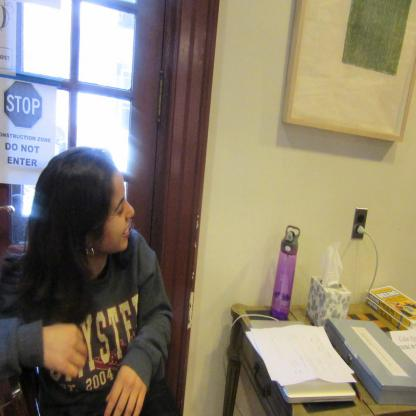book: (367, 285, 416, 329)
